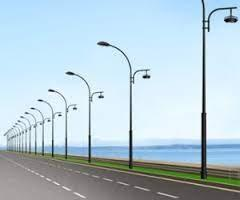Animal: (195, 1, 238, 181), (98, 37, 155, 172), (65, 65, 105, 165), (46, 83, 83, 158), (36, 94, 64, 156), (28, 103, 49, 151)
